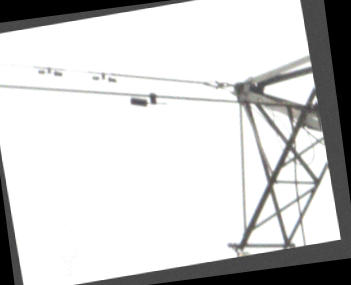damper: (35, 65, 63, 77), (90, 70, 117, 82)
damper_defect: (128, 91, 169, 107)
